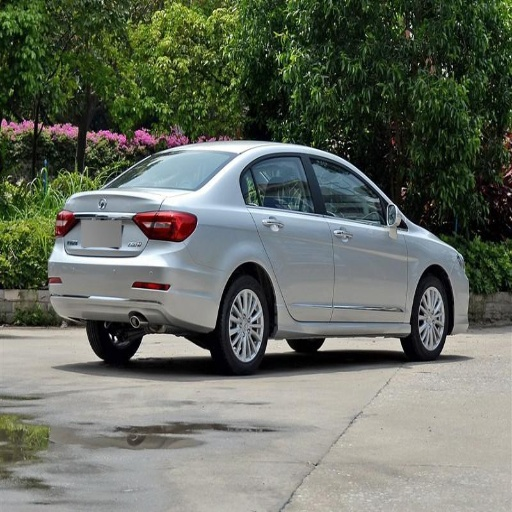back_bumper: (49, 240, 228, 327)
back_right_door: (250, 152, 333, 322)
tailgate: (64, 189, 163, 258)
